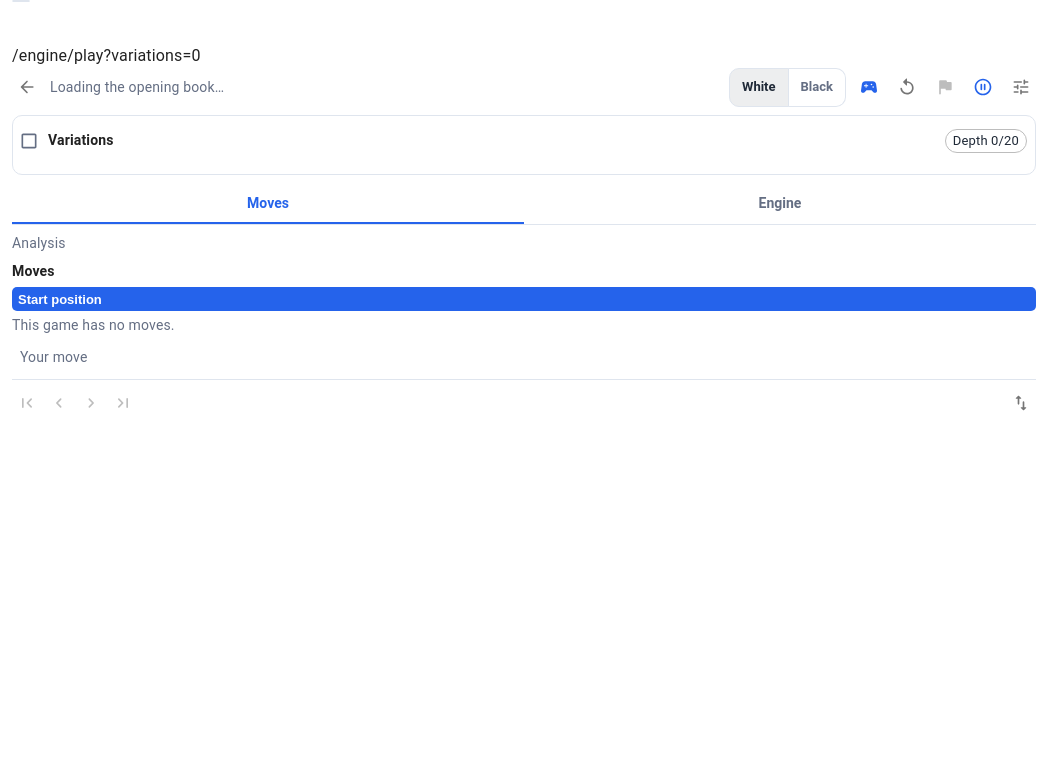
it: Play with Engine — a new game's options from the Lobby's link (CTA-82) › starts with the pinned lines hidden when the link says so (CTA-90)
Expected: the element with test id "play-with-engine-panel-variations" is shown, x1=12 y1=115 x2=1036 y2=175
Checking it is the way back: the waiting line returns.
Click the checkbox labelled "Variations" at (66, 141), box x1=19 y1=131 x2=114 y2=151
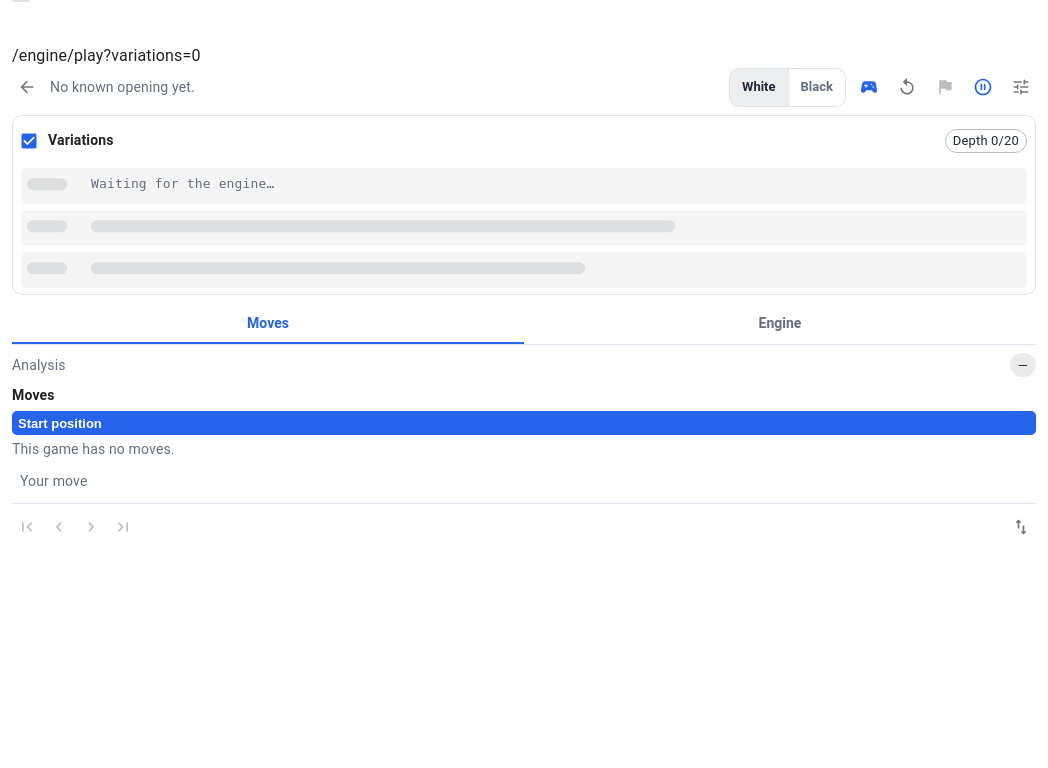
Expected: the checkbox labelled "Variations" is checked, x1=19 y1=131 x2=114 y2=151
Expected: the list item with test id "variation-1-pending" is shown, x1=21 y1=168 x2=1027 y2=204
